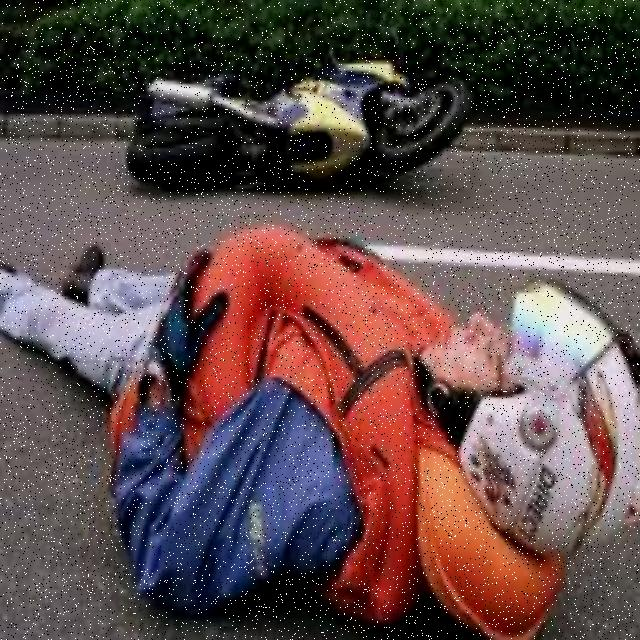with-helmet: (431, 266, 640, 546)
